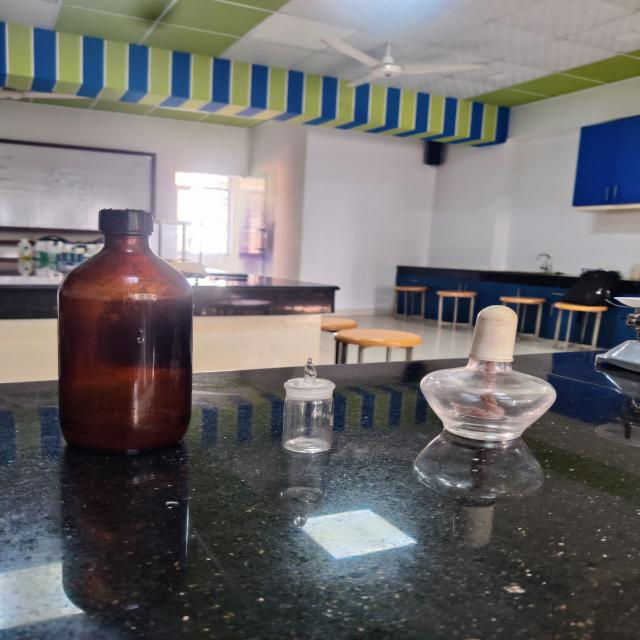Nessler_Reagent_Bottle: (41, 197, 215, 481)
Spirit_Lamp: (382, 272, 582, 466)
Weighing_Bottle: (267, 346, 348, 471)
